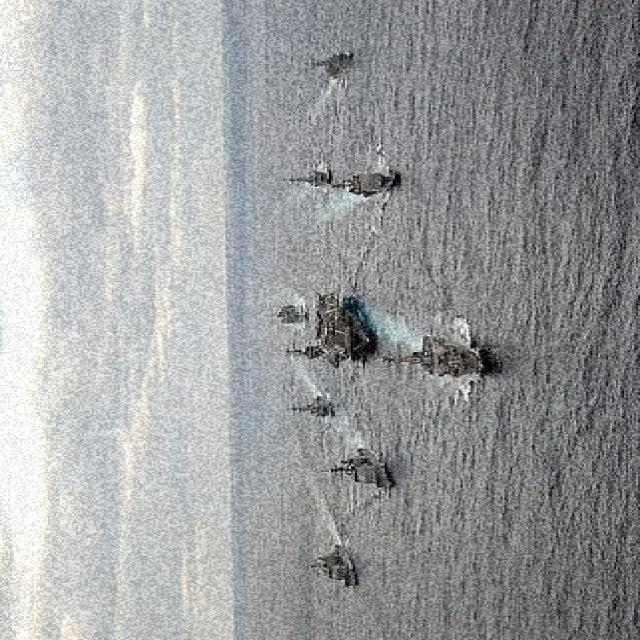ship2: (275, 293, 379, 368), (383, 334, 496, 379), (328, 446, 394, 492), (311, 544, 362, 592), (332, 171, 401, 198), (291, 392, 338, 422), (312, 50, 354, 78)
